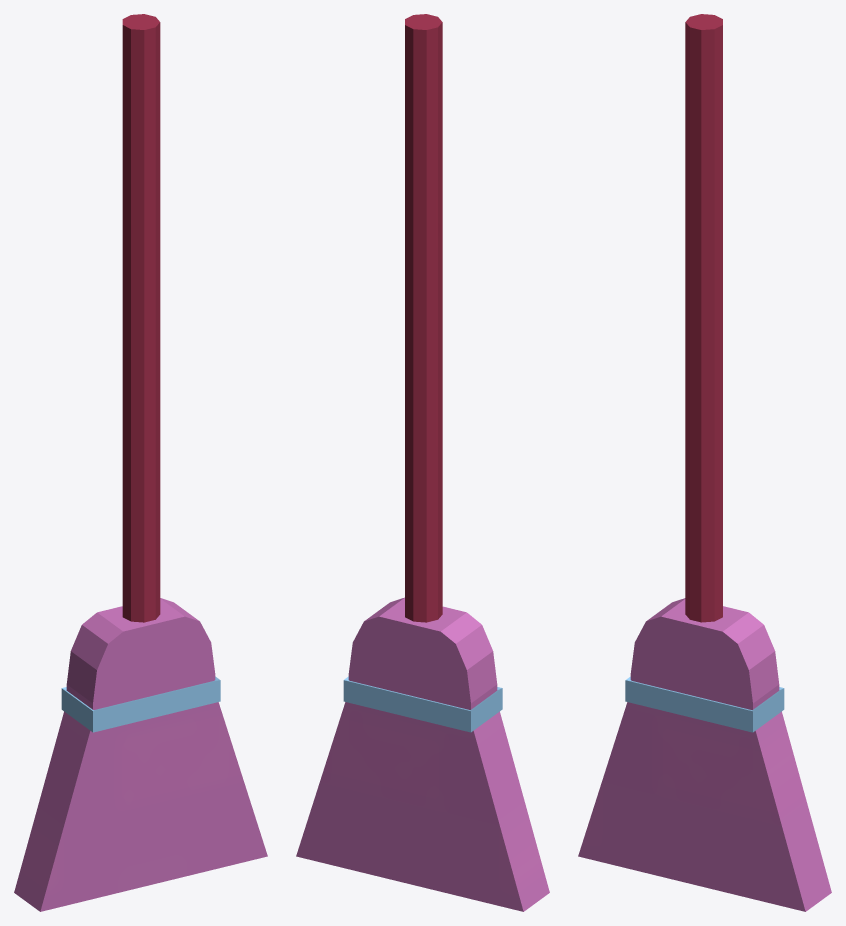
Rendered from Broom.fbx.
The picture shows the model from 3 angles, left to right: view 1: azimuth 30°, elevation 25°; view 2: azimuth 150°, elevation 25°; view 3: azimuth 330°, elevation 25°; orthographic projection.
Parts seen in each view (by area): view 1: broom; view 2: broom; view 3: broom.
Part boxes in pixels (bbox=[...]): broom: bbox=[14, 14, 267, 911]; broom: bbox=[296, 14, 549, 911]; broom: bbox=[578, 14, 831, 911].
Size of the model in its own units: 0.3921 by 1.4 by 0.0943.
Materials: 1 (1 with a texture image).
